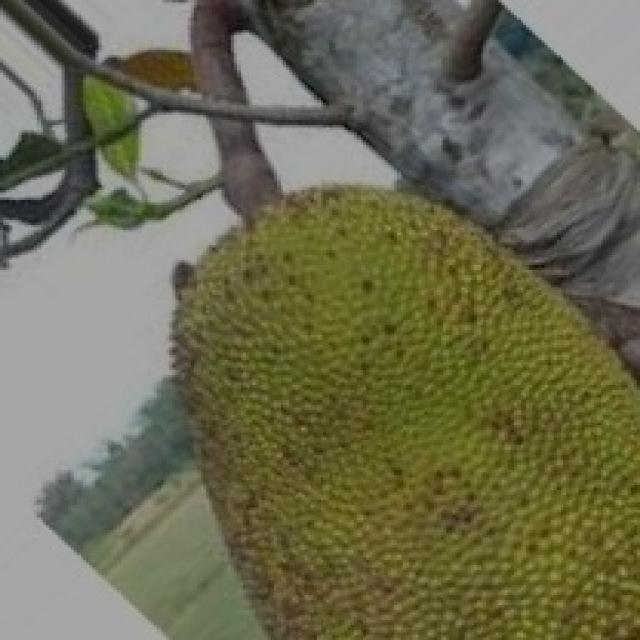Fruit: (200, 150, 637, 428)
